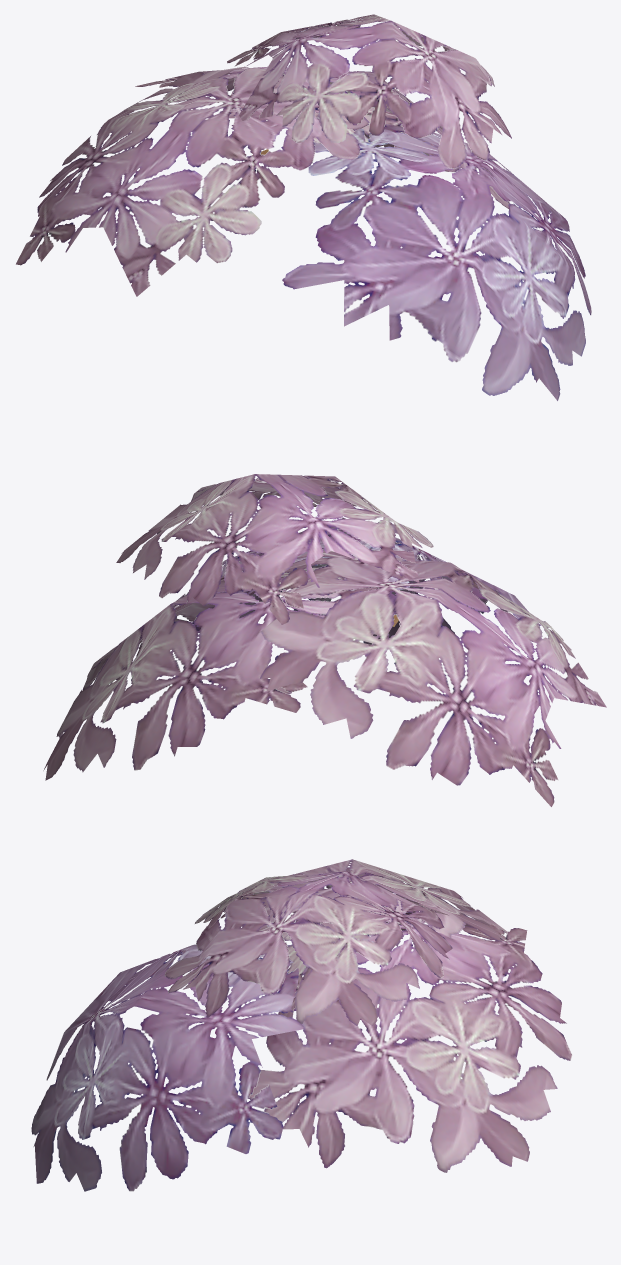
File: Map_06_grass02.FBX
3 renders of one model, top to bottom at view 1: azimuth 30°, elevation 25°; view 2: azimuth 150°, elevation 25°; view 3: azimuth 270°, elevation 25°, orthographic. The views are drawn at different scales.
Visible parts, largest first — view 1: Map_06_grass02; view 2: Map_06_grass02; view 3: Map_06_grass02.
Part boxes in pixels (left/top/right/bottom): Map_06_grass02: left=16, top=14, right=591, bottom=400; Map_06_grass02: left=43, top=474, right=606, bottom=806; Map_06_grass02: left=31, top=859, right=572, bottom=1191.
Size of the model in its own units: 290 by 312 by 177.
